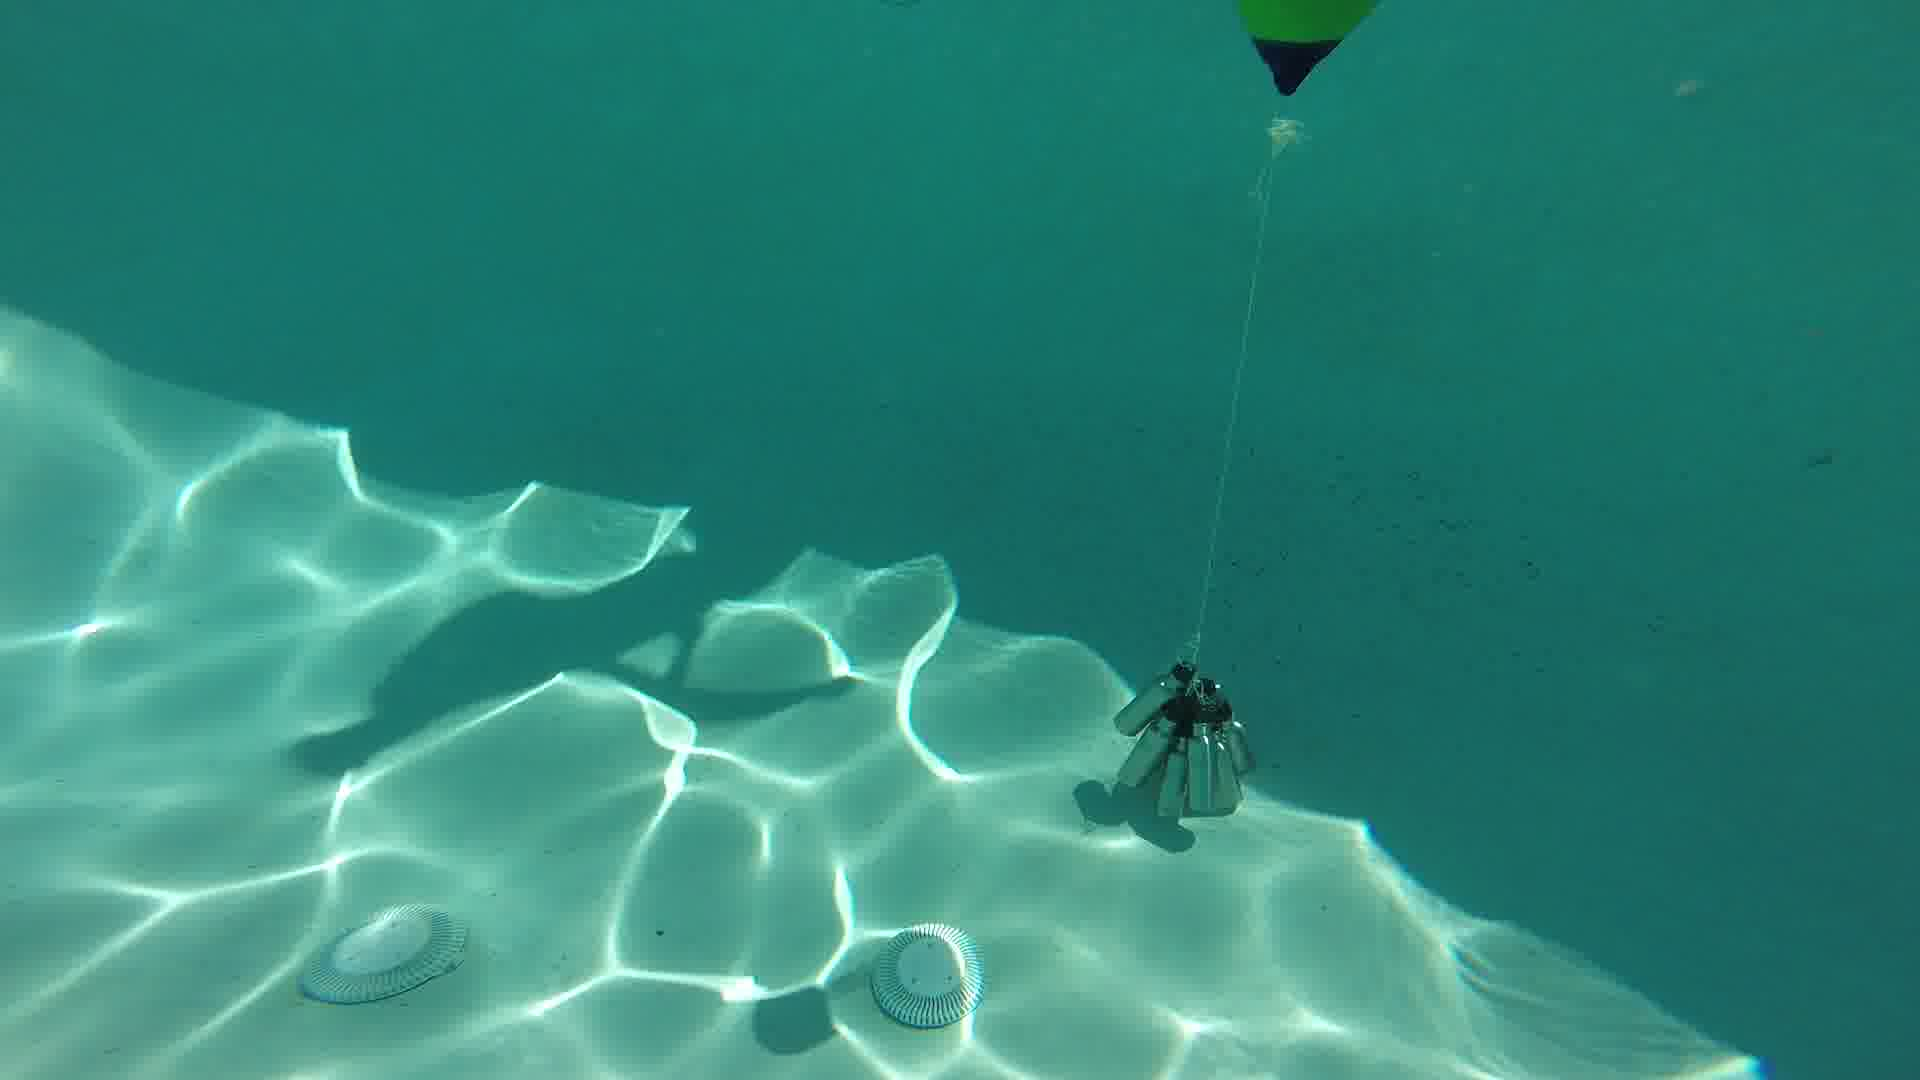yellow_buoy: (1232, 3, 1381, 158)
